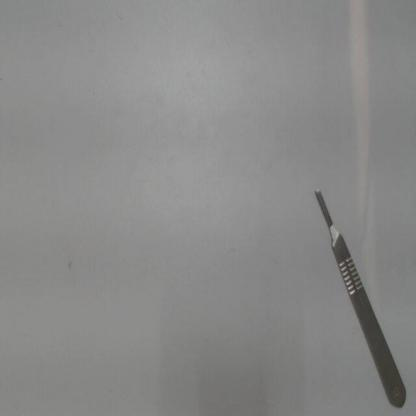No.4 BP Handle: (296, 172, 412, 414)
